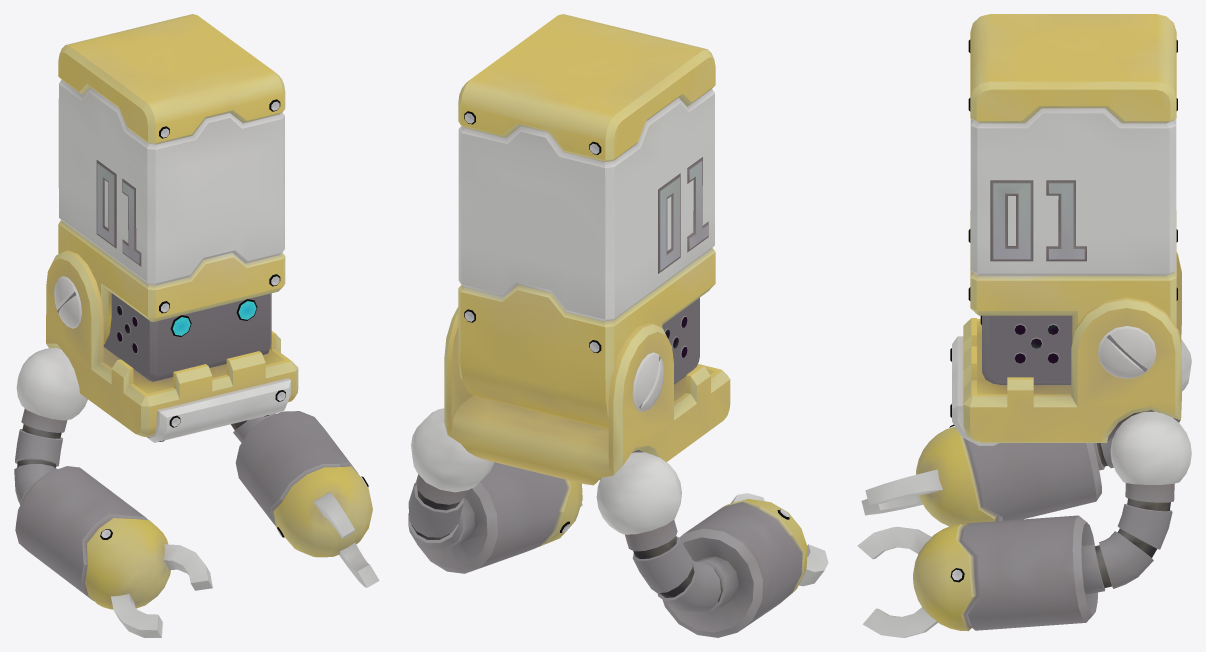
The model's file is cartoonish_flying_robot.glb.
3 views of the same model, side by side, from view 1: azimuth 30°, elevation 25°; view 2: azimuth 150°, elevation 25°; view 3: azimuth 270°, elevation 25° (orthographic). The views are drawn at different scales.
Visible parts, largest first — view 1: Head, Hand, Jaw, Face, Chin, Number, Eyes; view 2: Head, Hand, Jaw, Number, Face, Eyes, Chin; view 3: Head, Hand, Jaw, Face, Number, Eyes, Chin.
Part boxes in pixels (x1,y1,x2,y2): Head: [58, 14, 285, 344]; Hand: [14, 348, 379, 637]; Jaw: [46, 250, 298, 436]; Face: [103, 293, 271, 381]; Chin: [100, 99, 368, 539]; Number: [96, 160, 141, 266]; Eyes: [54, 276, 257, 353]; Head: [458, 14, 715, 428]; Hand: [408, 408, 828, 637]; Jaw: [444, 307, 730, 485]; Number: [658, 157, 708, 273]; Face: [662, 298, 699, 384]; Eyes: [632, 316, 687, 411]; Chin: [464, 111, 789, 532]; Head: [970, 14, 1176, 342]; Hand: [857, 339, 1191, 637]; Jaw: [963, 252, 1181, 442]; Face: [982, 315, 1072, 384]; Number: [990, 180, 1086, 261]; Eyes: [980, 315, 1156, 378]; Chin: [949, 39, 1177, 582].
Bounding box in the file's own units: 0.8068 × 1.21 × 0.6916.
